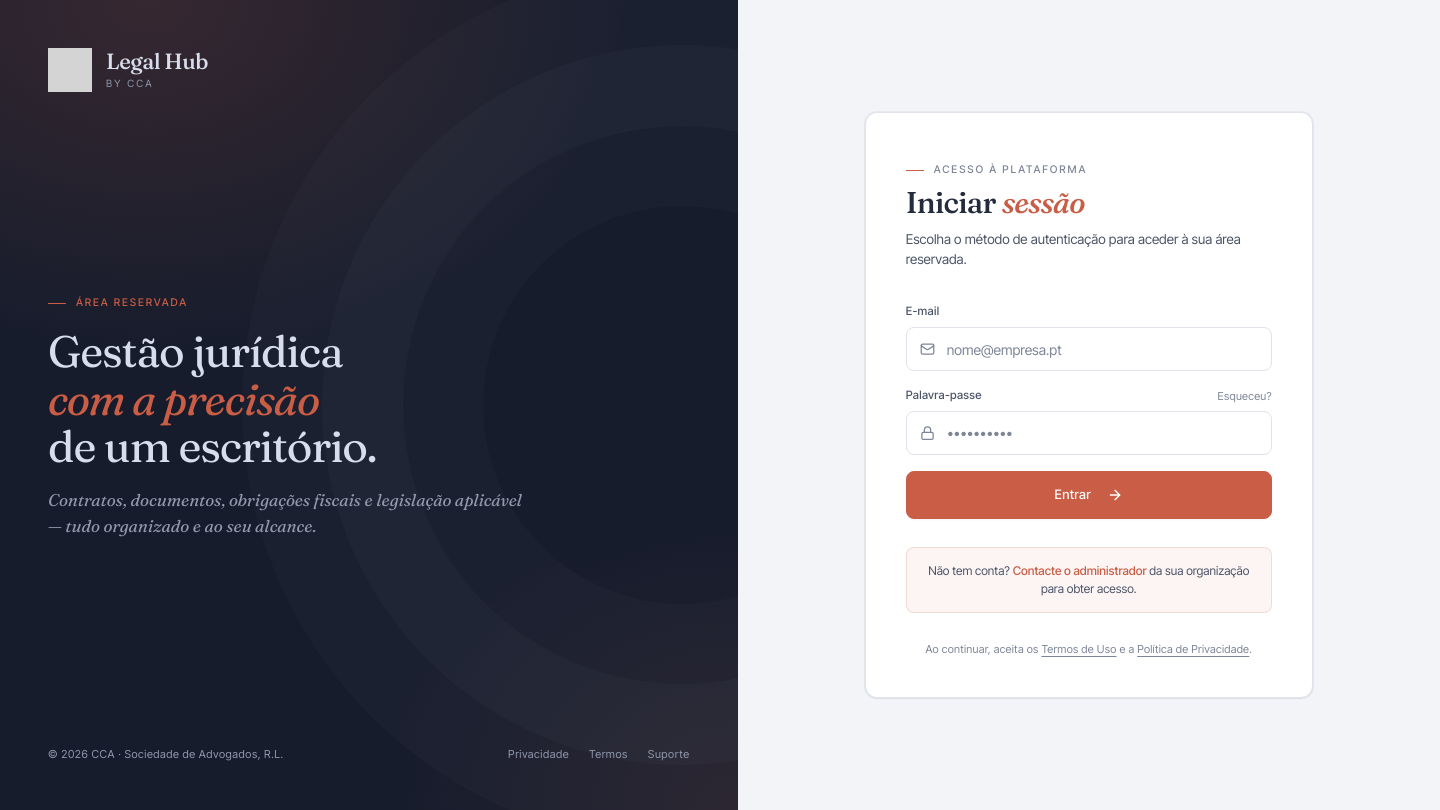
Test case: Login — email validation › shows email error message for invalid email input
Step 1. Type "not-an-email" into the field labelled "E-mail" → (1089, 349), box [906, 327, 1272, 371]
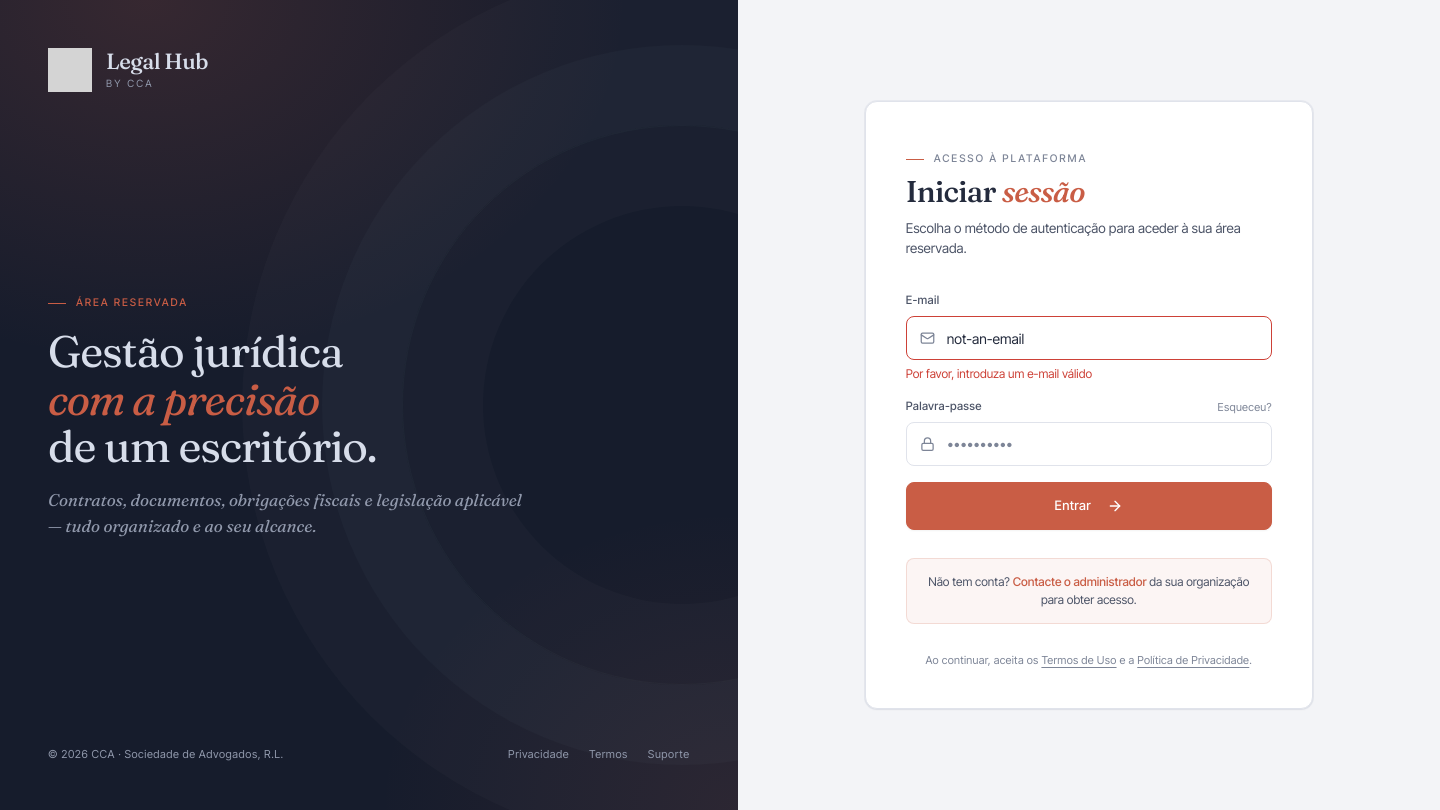
Result: the text "Por favor, introduza um e-mail válido" is shown at [906, 366, 1092, 381]
